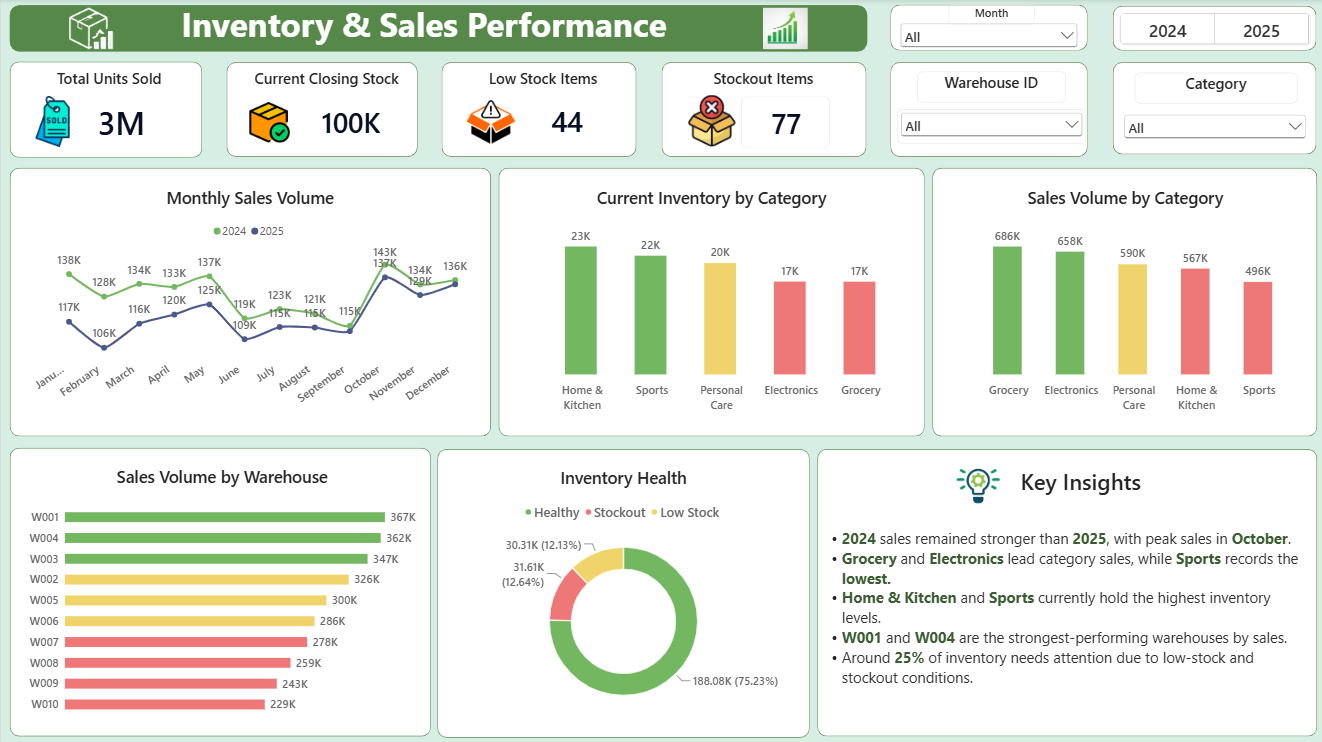

What the dashboard file says about the page in this screenshot:
{"tool":"powerbi","page":{"name":"Inventory & Sales","canvas":[1920,1080],"ordinal":0},"visuals":[{"type":"shape","title":"Total Units Sold","box":[1286.7,7.2,287.7,68.8],"z":0,"group":"g1"},{"type":"shape","box":[12.7,9,1241.4,67],"z":0},{"type":"shape","title":"Total Units Sold","box":[1608.8,9,296.8,67],"z":0,"group":"g7"},{"type":"shape","title":"Total Units Sold","box":[632.5,651.5,539.3,418],"z":0,"group":"g15"},{"type":"shape","title":"Total Units Sold","box":[1181.7,651.5,723.9,416.2],"z":0,"group":"g11"},{"type":"textbox","box":[229.8,3.6,765.5,76],"z":1000},{"type":"shape","title":"Total Units Sold","box":[955.1,90.5,298.6,139.3],"z":1000,"group":"g2"},{"type":"shape","title":"Total Units Sold","box":[1287.4,90.5,287.7,139.3],"z":1000,"group":"g8"},{"type":"shape","title":"Total Units Sold","box":[1348.2,244.3,557.4,389.1],"z":1000,"group":"g13"},{"type":"shape","title":"Total Units Sold","box":[12.7,649.7,609.9,418],"z":1000,"group":"g14"},{"type":"textbox","box":[1451.3,676.8,223.7,56.1],"z":1000,"group":"g11"},{"type":"group","id":"g1","title":"Group 1","box":[1286.7,7.2,287.7,68.8],"z":2000,"group":"g6"},{"type":"group","id":"g2","title":"Group 5","box":[955.1,90.5,298.6,139.3],"z":2000},{"type":"textbox","box":[1185.3,765.5,711.2,262.4],"z":2000,"group":"g11"},{"type":"group","id":"g3","title":"Group 4","box":[12.7,90.5,278.7,139.3],"z":3000},{"type":"slicer","fields":{"Values":["Warehouses.Warehouse_ID"]},"box":[1297.7,159.3,274,50.7],"z":3000,"group":"g8"},{"type":"shape","title":"Total Units Sold","box":[12.7,244.3,696.7,389.1],"z":3000,"group":"g10"},{"type":"shape","title":"Total Units Sold","box":[720.2,244.3,617.1,389.1],"z":3000,"group":"g12"},{"type":"group","id":"g4","title":"Group 6","box":[325,90.5,278.7,139.3],"z":4000},{"type":"group","id":"g5","title":"Group 7","box":[637.4,90.5,284.1,139.3],"z":5000},{"type":"textbox","box":[1327,105,214.9,44.9],"z":5000,"group":"g8"},{"type":"group","id":"g6","title":"Group 2","box":[1286.7,7.2,287.7,68.8],"z":6000},{"type":"shape","title":"Total Units Sold","box":[637.4,90.5,284.1,139.3],"z":6000,"group":"g5"},{"type":"lineChart","title":"Monthly Sales Volume","fields":{"Category":["Date.Month Name"],"Series":["Date.Year"],"Y":["Sum(Inventory_Sales.Sold_Qty)"]},"box":[26.4,257,666.8,360.1],"z":6000,"group":"g10"},{"type":"group","id":"g7","title":"Group 3","box":[1608.8,9,296.8,67],"z":7000},{"type":"columnChart","title":"Current Inventory by Category","fields":{"Category":["Products.Category"],"Y":["DAX.Current Closing Stock"]},"box":[730.4,257,595.4,360.1],"z":7000,"group":"g12"},{"type":"barChart","title":"Sales Volume by Warehouse","fields":{"Category":["Warehouses.Warehouse_ID"],"Y":["Sum(Inventory_Sales.Sold_Qty)"]},"box":[22.8,660.6,593.2,396.3],"z":7000,"group":"g14"},{"type":"shape","title":"Total Units Sold","box":[325,90.5,278.7,139.3],"z":8000,"group":"g4"},{"type":"group","id":"g8","title":"Group 8","box":[1287.4,90.5,287.7,139.3],"z":8000},{"type":"donutChart","title":"Inventory Health","fields":{"Y":["CountNonNull(Inventory_Sales.Stock_Status)"],"Category":["Inventory_Sales.Stock_Status"]},"box":[645.2,662.4,513.9,396.3],"z":8000,"group":"g15"},{"type":"group","id":"g9","title":"Group 9","box":[1608.8,90.5,296.8,135.7],"z":9000},{"type":"image","box":[56.1,12.7,148.4,59.7],"z":10000},{"type":"shape","title":"Total Units Sold","box":[12.7,90.5,278.7,139.3],"z":10000,"group":"g3"},{"type":"cardVisual","fields":{"Data":["DAX.Stockout Items"]},"box":[1071.4,141.2,129.9,74.2],"z":10000,"group":"g2"},{"type":"image","box":[1035.1,12.7,200.9,59.7],"z":11000},{"type":"group","id":"g10","title":"Group 10","box":[12.7,244.3,696.7,389.1],"z":12000},{"type":"group","id":"g11","title":"Group 13","box":[1181.7,651.5,723.9,416.2],"z":13000},{"type":"cardVisual","title":"Total Units Sold","fields":{"Data":["DAX.Total_Units_Sold"]},"box":[95.9,139.4,157.4,76],"z":14000,"group":"g3"},{"type":"group","id":"g12","title":"Group 11","box":[720.2,244.3,617.1,389.1],"z":14000},{"type":"cardVisual","fields":{"Data":["DAX.Current_Closing_Stock"]},"box":[431.8,135.7,148.4,83.2],"z":15000,"group":"g4"},{"type":"group","id":"g13","title":"Group 12","box":[1348.2,244.3,557.4,389.1],"z":15000},{"type":"slicer","fields":{"Values":["Date.Month Name"]},"box":[1297.6,30.7,266,45.2],"z":16000,"group":"g6"},{"type":"cardVisual","fields":{"Data":["DAX.Low Stock Items"]},"box":[765.9,139.4,108.6,72.4],"z":16000,"group":"g5"},{"type":"group","id":"g14","title":"Group 14","box":[12.7,649.7,609.9,418],"z":16000},{"type":"columnChart","title":"Sales Volume by Category","fields":{"Category":["Products.Category"],"Y":["Sum(Inventory_Sales.Sold_Qty)"]},"box":[1359.1,257,537.5,360.1],"z":17000,"group":"g13"},{"type":"group","id":"g15","title":"Group 15","box":[632.5,651.5,539.3,418],"z":17000},{"type":"image","box":[32.6,139.4,83.2,76],"z":19000,"group":"g3"},{"type":"textbox","box":[1371.8,7.2,124.9,30.8],"z":20000,"group":"g6"},{"type":"textbox","box":[74.2,99.5,164.7,39.8],"z":20000,"group":"g3"},{"type":"textbox","box":[986.1,99.5,234.6,36.2],"z":20000,"group":"g2"},{"type":"image","box":[1377.1,660.5,74.2,88.7],"z":20000,"group":"g11"},{"type":"advancedSlicerVisual","fields":{"Values":["Date.Year"]},"box":[1619.7,19.9,276.9,47.1],"z":21000,"group":"g7"},{"type":"textbox","box":[361.2,99.5,219,36.2],"z":21000,"group":"g4"},{"type":"shape","title":"Total Units Sold","box":[1608.8,90.5,296.8,135.7],"z":22000,"group":"g9"},{"type":"image","box":[986.1,139.4,85.3,74.2],"z":22000,"group":"g2"},{"type":"image","box":[344.9,144.8,86.9,70.6],"z":22000,"group":"g4"},{"type":"textbox","box":[695.3,99.5,179.2,36.2],"z":23000,"group":"g5"},{"type":"slicer","fields":{"Values":["Products.Category"]},"box":[1622,162.9,272.2,43.4],"z":23000,"group":"g9"},{"type":"textbox","box":[1640.9,106.8,235.8,44.9],"z":24000,"group":"g9"},{"type":"image","box":[673.6,137.6,72.4,81.4],"z":24000,"group":"g5"}]}

Visuals, with their boxes in screenshot pixels (x1, y1, x2, y2), scaled from the page's 1920x1080 canvas onto the 1322x742 screenshot:
"Total Units Sold" shape: 886:5:1084:52
shape: 9:6:864:52
"Total Units Sold" shape: 1108:6:1312:52
"Total Units Sold" shape: 436:448:807:735
"Total Units Sold" shape: 814:448:1312:734
textbox: 158:2:685:55
"Total Units Sold" shape: 658:62:863:158
"Total Units Sold" shape: 886:62:1085:158
"Total Units Sold" shape: 928:168:1312:435
"Total Units Sold" shape: 9:446:429:734
textbox: 999:465:1153:504
"Group 1" group: 886:5:1084:52
"Group 5" group: 658:62:863:158
textbox: 816:526:1306:706
"Group 4" group: 9:62:201:158
slicer - Warehouses.Warehouse_ID: 894:109:1082:144
"Total Units Sold" shape: 9:168:488:435
"Total Units Sold" shape: 496:168:921:435
"Group 6" group: 224:62:416:158
"Group 7" group: 439:62:634:158
textbox: 914:72:1062:103
"Group 2" group: 886:5:1084:52
"Total Units Sold" shape: 439:62:634:158
"Monthly Sales Volume" lineChart: 18:177:477:424
"Group 3" group: 1108:6:1312:52
"Current Inventory by Category" columnChart: 503:177:913:424
"Sales Volume by Warehouse" barChart: 16:454:424:726
"Total Units Sold" shape: 224:62:416:158
"Group 8" group: 886:62:1085:158
"Inventory Health" donutChart: 444:455:798:727
"Group 9" group: 1108:62:1312:155
image: 39:9:141:50
"Total Units Sold" shape: 9:62:201:158
cardVisual - DAX.Stockout Items: 738:97:827:148
image: 713:9:851:50
"Group 10" group: 9:168:488:435
"Group 13" group: 814:448:1312:734
"Total Units Sold" cardVisual: 66:96:174:148
"Group 11" group: 496:168:921:435
cardVisual - DAX.Current_Closing_Stock: 297:93:399:150
"Group 12" group: 928:168:1312:435
slicer - Date.Month Name: 893:21:1077:52
cardVisual - DAX.Low Stock Items: 527:96:602:146
"Group 14" group: 9:446:429:734
"Sales Volume by Category" columnChart: 936:177:1306:424
"Group 15" group: 436:448:807:735
image: 22:96:80:148
textbox: 945:5:1031:26
textbox: 51:68:164:96
textbox: 679:68:841:93
image: 948:454:999:515
advancedSlicerVisual - Date.Year: 1115:14:1306:46
textbox: 249:68:399:93
"Total Units Sold" shape: 1108:62:1312:155
image: 679:96:738:147
image: 237:99:297:148
textbox: 479:68:602:93
slicer - Products.Category: 1117:112:1304:142
textbox: 1130:73:1292:104
image: 464:95:514:150
